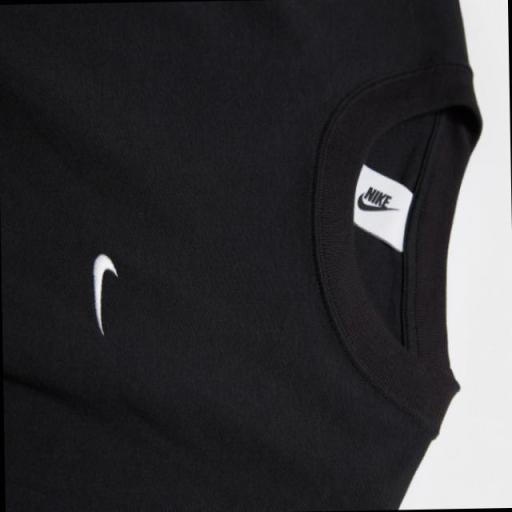Nike: (86, 246, 121, 338)
